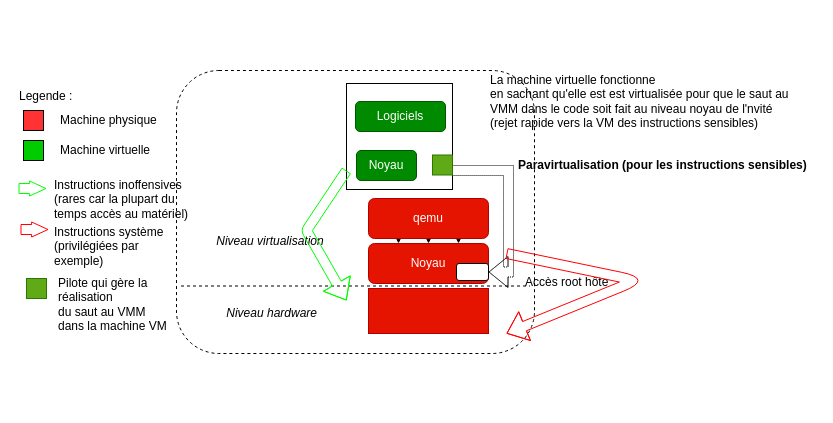
The diagram is 833 pixels wide and 423 high, and some of its shapes have lost their labels. Here are the shapes that lost their labels. From the top down, the centre of each, then its label:
the point at 472,271: KVM
the point at 428,311: Ressources rio205
